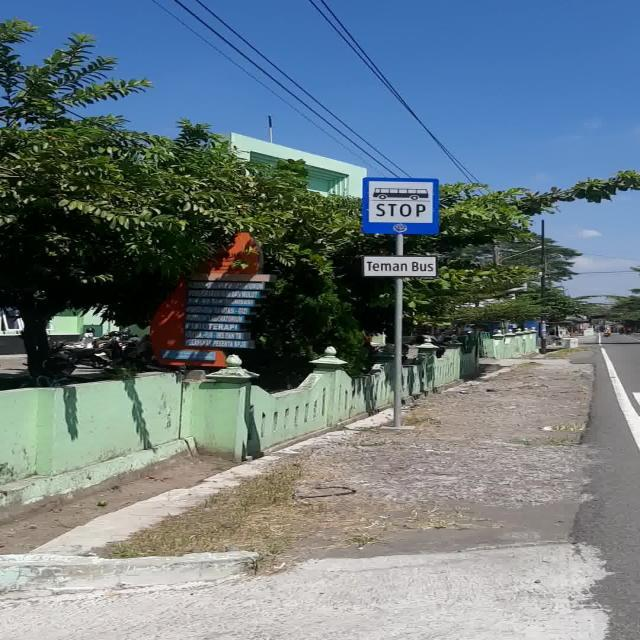Pemberhentian Bus: (362, 177, 438, 234)
